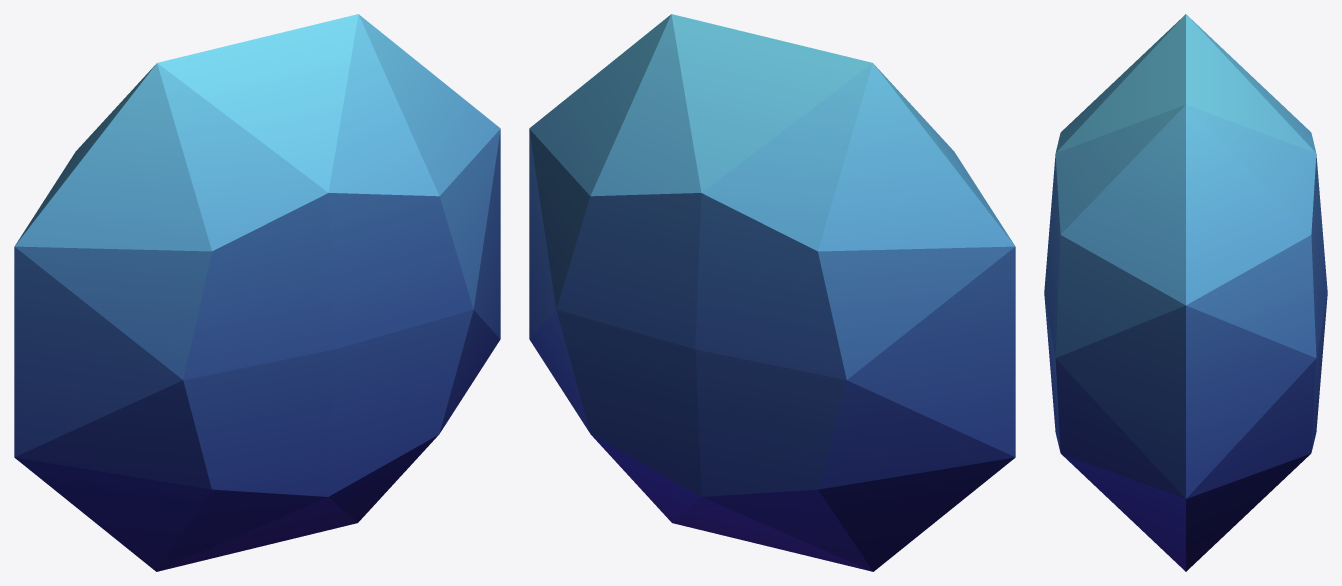
Rendered from Sapphire_01.glb.
The picture shows the model from 3 angles, left to right: view 1: azimuth 30°, elevation 25°; view 2: azimuth 150°, elevation 25°; view 3: azimuth 270°, elevation 25°; orthographic projection. The views are drawn at different scales.
Parts seen in each view (by area): view 1: Sapphire_01; view 2: Sapphire_01; view 3: Sapphire_01.
Boxes of the visible parts, box(x1,y1,x2,y2) form: Sapphire_01: box(14, 14, 500, 571); Sapphire_01: box(529, 14, 1015, 571); Sapphire_01: box(1044, 14, 1327, 571).
Size of the model in its own units: 0.2389 by 0.2389 by 0.1312.
1 material, 1 textured.
